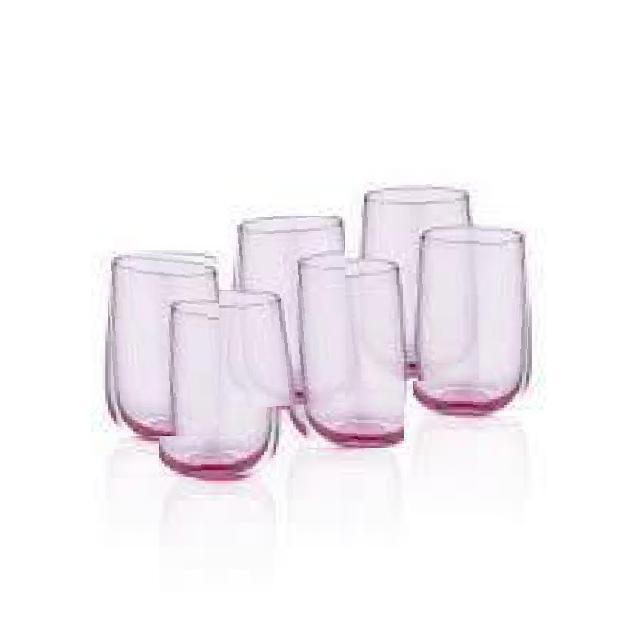Glass: (358, 183, 479, 381), (159, 290, 282, 478), (413, 224, 533, 416), (289, 254, 404, 448), (230, 216, 345, 408), (106, 248, 220, 436)
